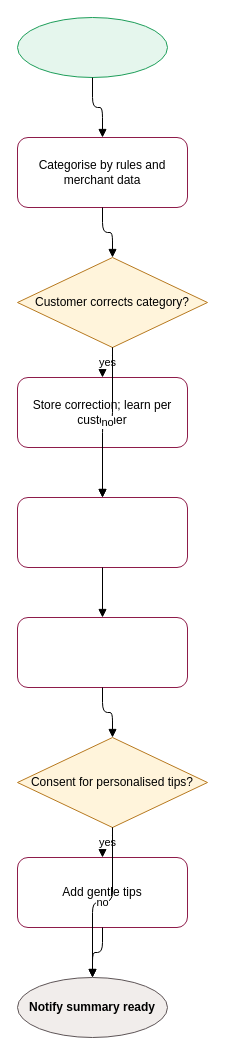
The diagram is 225 pixels wide and 1055 high, and some of its shapes have lost their labels. The centre of each missing label's shape, as x and y in pixels:
"Month end: build summary" goes at pixel 102 652.
"Transaction posted" goes at pixel 92 47.
"Update category totals" goes at pixel 102 532.
